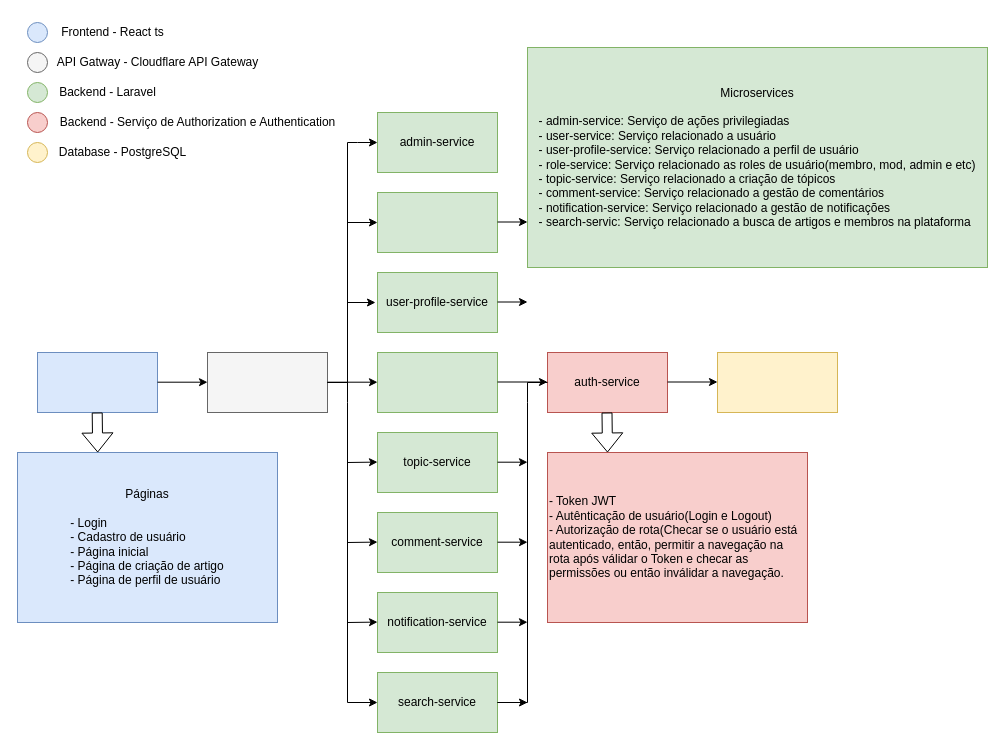
Some shapes in this 1005 by 750 pixel diagram are drawn without their labels. Each missing label, with the box of its shape:
API Gatway: (206, 352, 328, 412)
DB: (716, 352, 838, 412)
Frontend: (36, 352, 158, 412)
role-service: (376, 352, 498, 412)
user-service: (376, 192, 498, 252)
